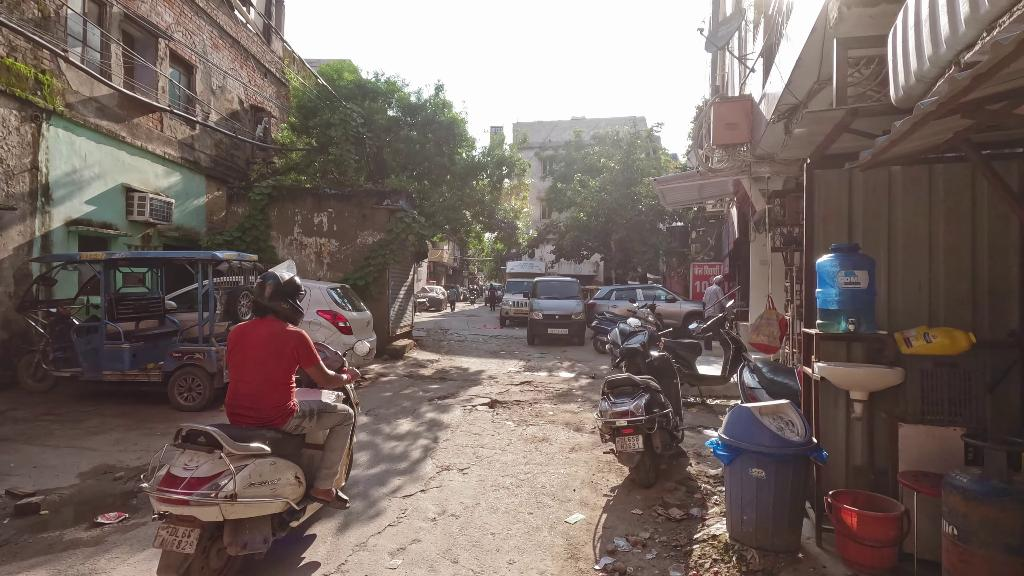dustbin: (713, 396, 818, 553)
